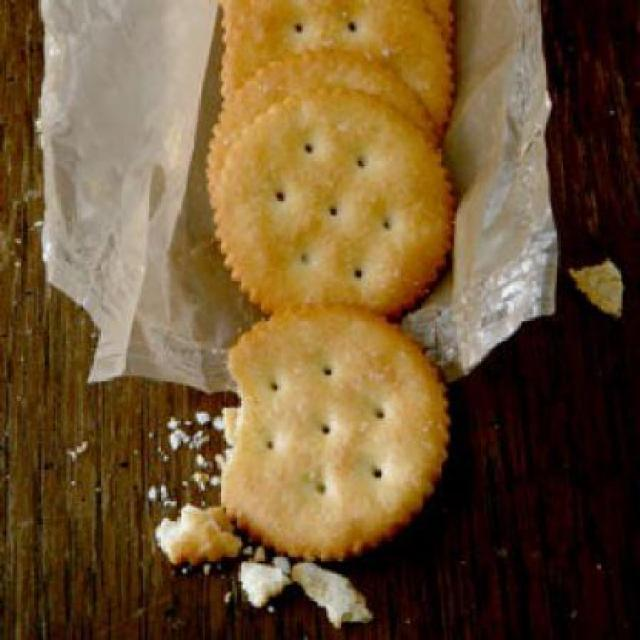Ritz cracker packaged: (190, 10, 478, 570)
